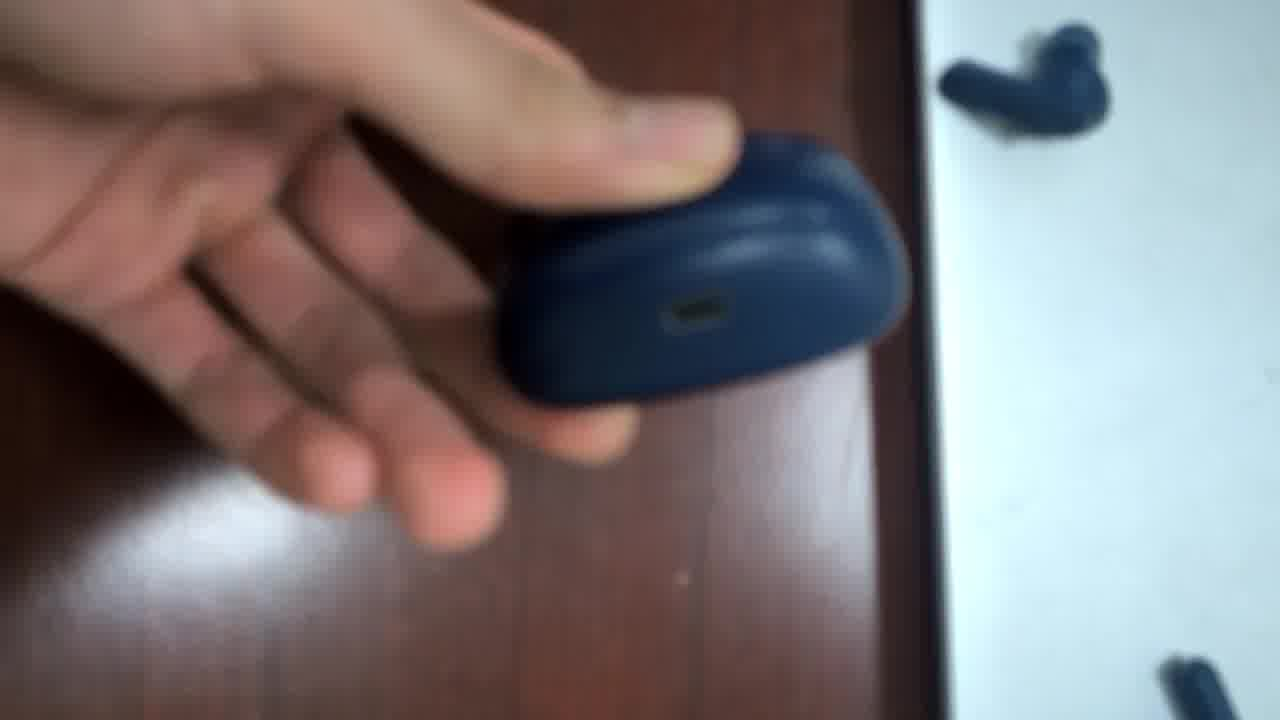Case: (474, 122, 910, 414)
Earbud: (940, 23, 1109, 135)
